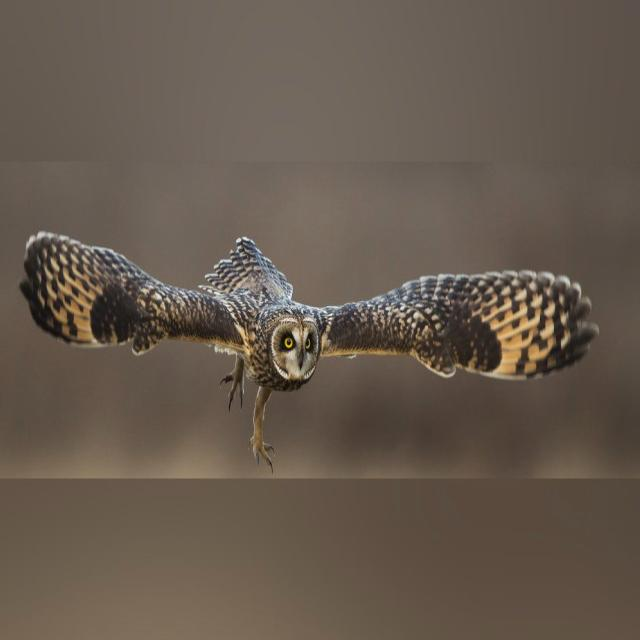owl: (20, 231, 599, 467)
